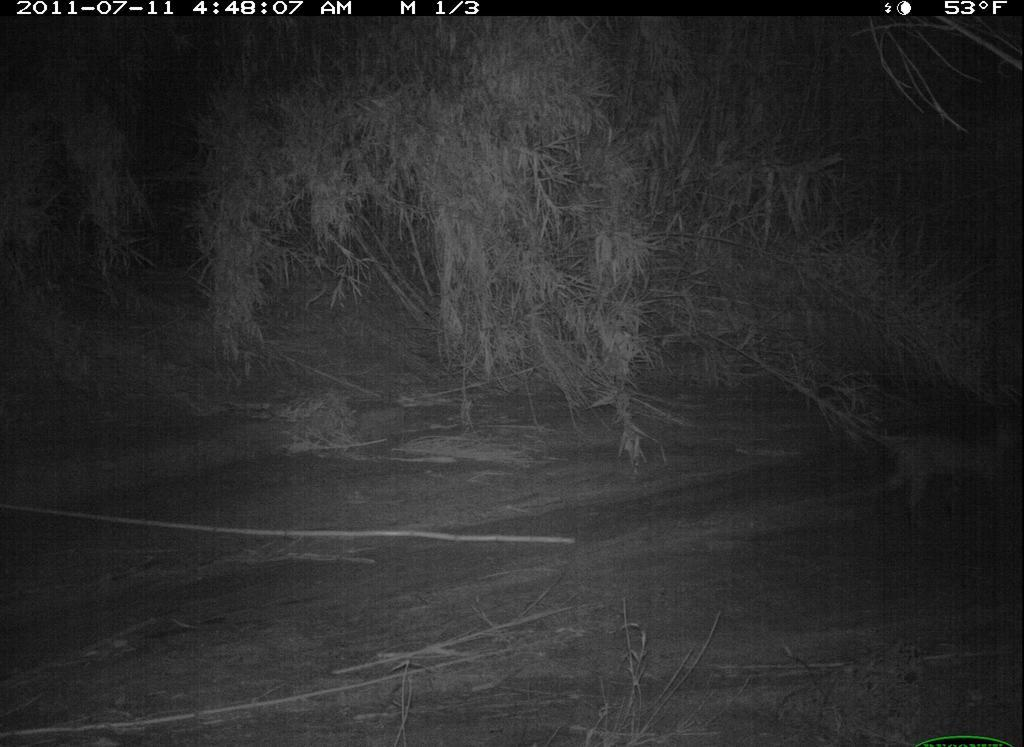bobcat: (877, 415, 1022, 533)
